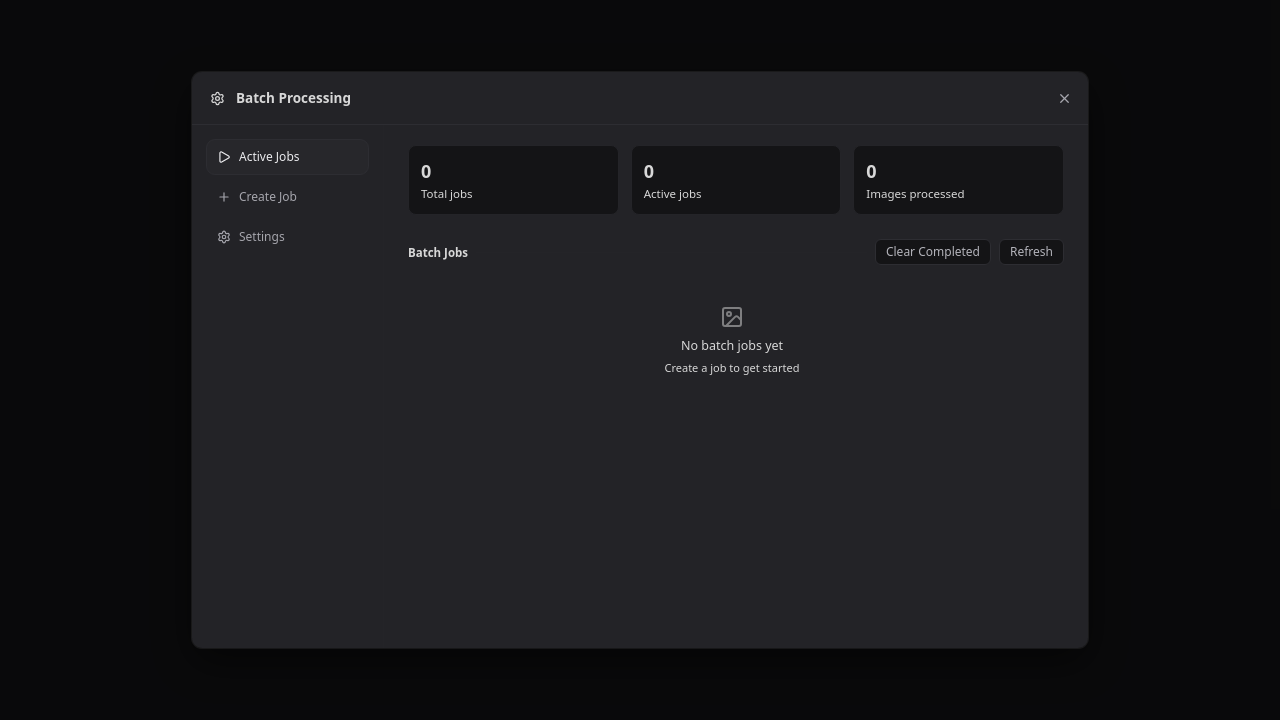
Test case: BatchProcessingDialog enqueue wiring › "Add Open Images" is hidden when there are no available images
Click the button "Create Job": (288, 197) [206,179,369,215]
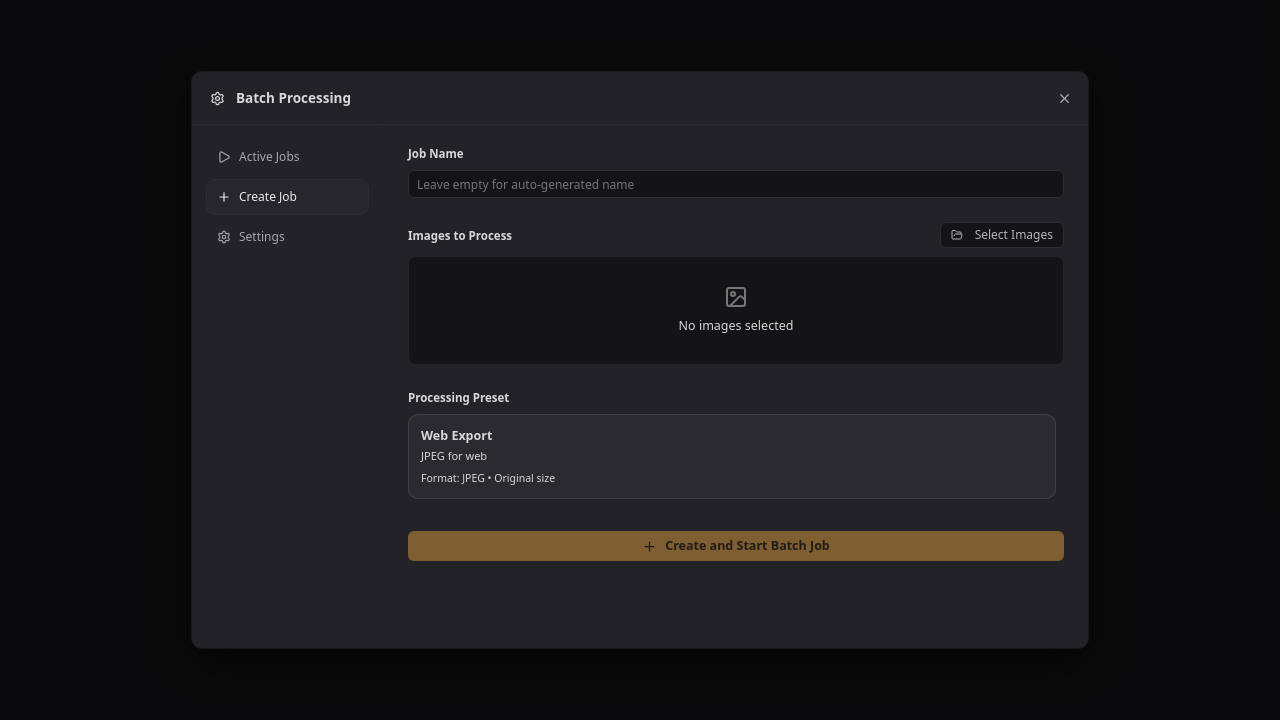
Expected: the text "No images selected" is shown, [679,317,793,334]
